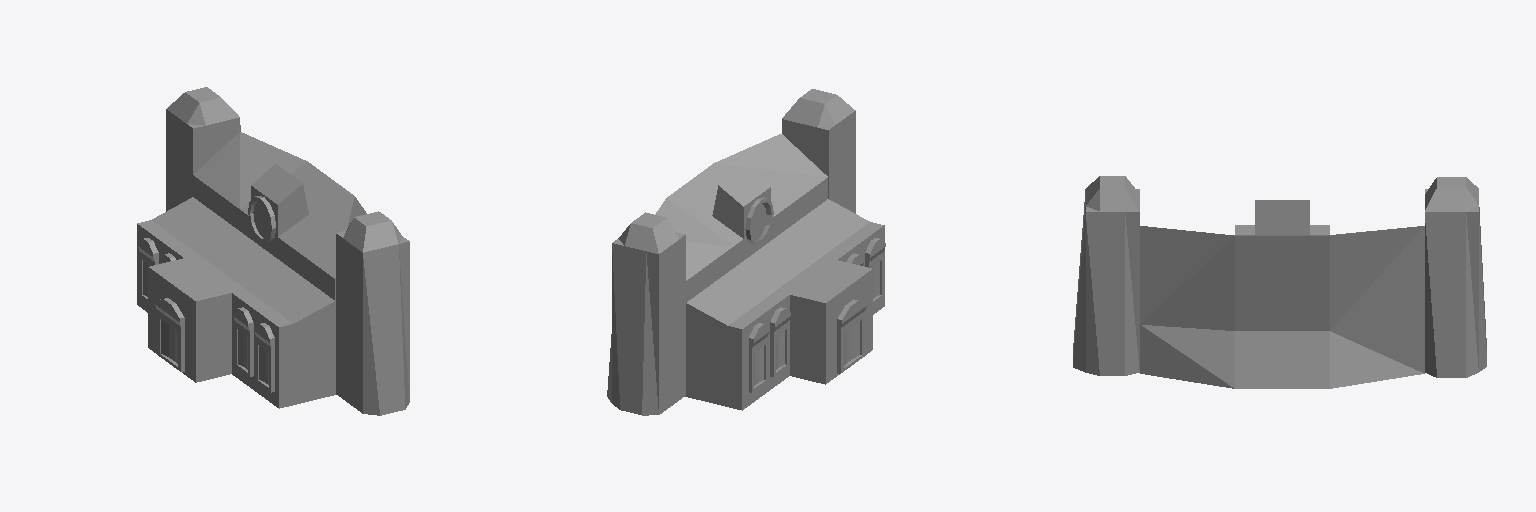
The model's file is vokzal.obj.
3 renders of one model, left to right at view 1: azimuth 30°, elevation 25°; view 2: azimuth 150°, elevation 25°; view 3: azimuth 270°, elevation 25°, orthographic.
Size of the model in its own units: 7.46 by 7.36 by 15.31.